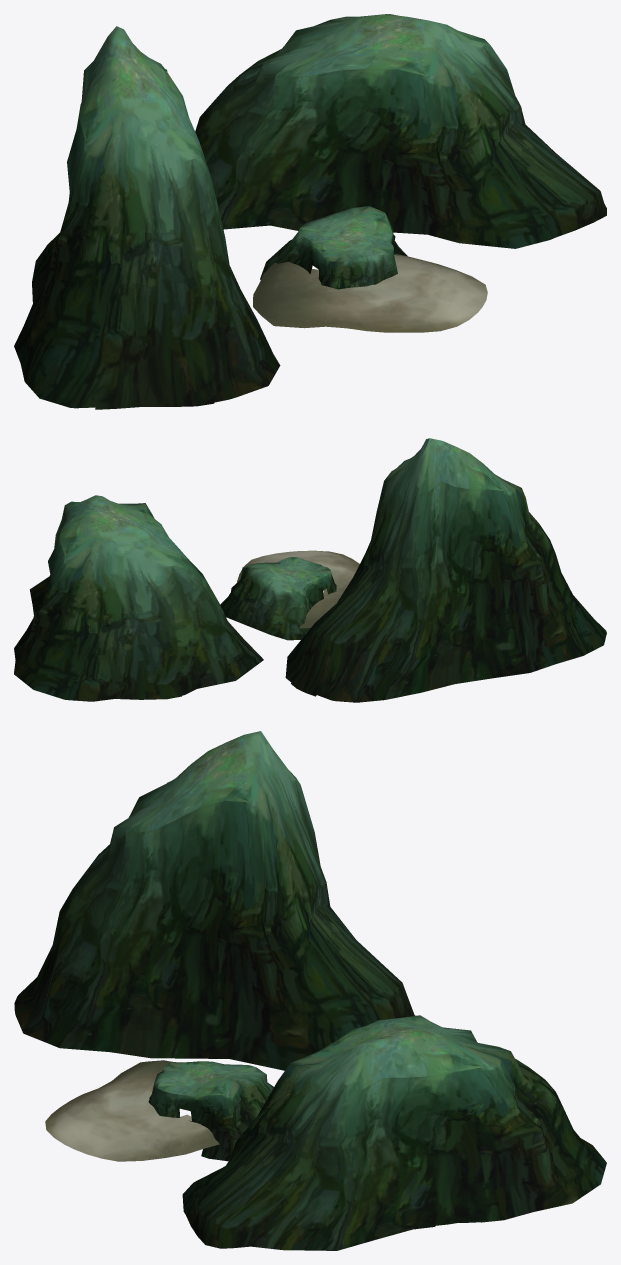
Rendered from pir_m_are_isl_perdida.fbx.
3 renders of one model, top to bottom at view 1: azimuth 30°, elevation 25°; view 2: azimuth 150°, elevation 25°; view 3: azimuth 270°, elevation 25°, orthographic. The views are drawn at different scales.
Parts seen in each view (by area): view 1: back_hill1, back_hill, ground, hill; view 2: back_hill, back_hill1, hill, ground; view 3: back_hill, back_hill1, ground, hill.
Boxes of the visible parts, bbox=[...] form: back_hill1: bbox=[195, 14, 606, 248]; back_hill: bbox=[14, 26, 280, 409]; ground: bbox=[253, 254, 487, 332]; hill: bbox=[260, 206, 407, 289]; back_hill: bbox=[285, 438, 606, 702]; back_hill1: bbox=[14, 495, 263, 701]; hill: bbox=[220, 557, 336, 640]; ground: bbox=[237, 550, 359, 628]; back_hill: bbox=[14, 731, 415, 1070]; back_hill1: bbox=[182, 1015, 606, 1250]; ground: bbox=[45, 1060, 219, 1161]; hill: bbox=[148, 1061, 273, 1161].
Bounding box in the file's own units: 221842 × 98757 × 180205.
Materials: 2 (2 with a texture image).
